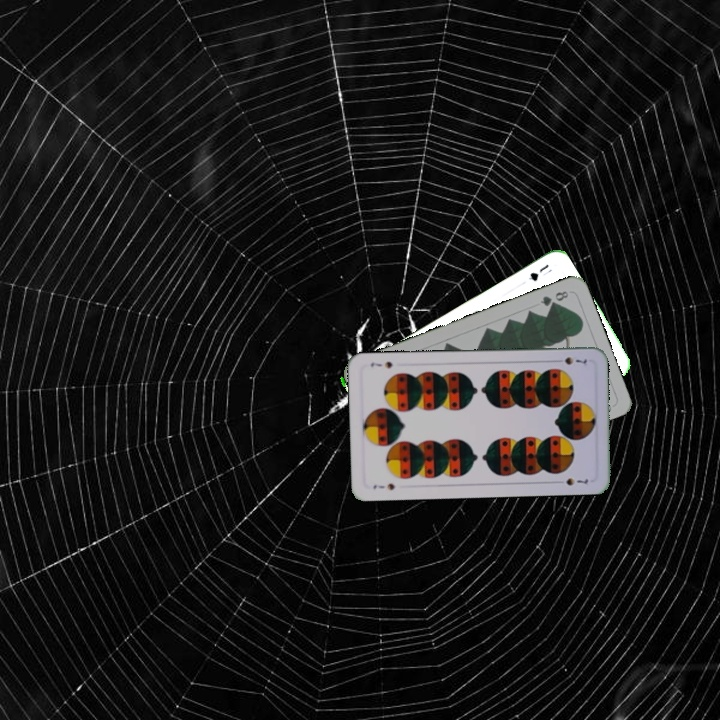G8: (536, 287, 571, 309)
GU: (525, 260, 551, 284)
S7: (551, 353, 589, 367), (369, 479, 397, 492)
